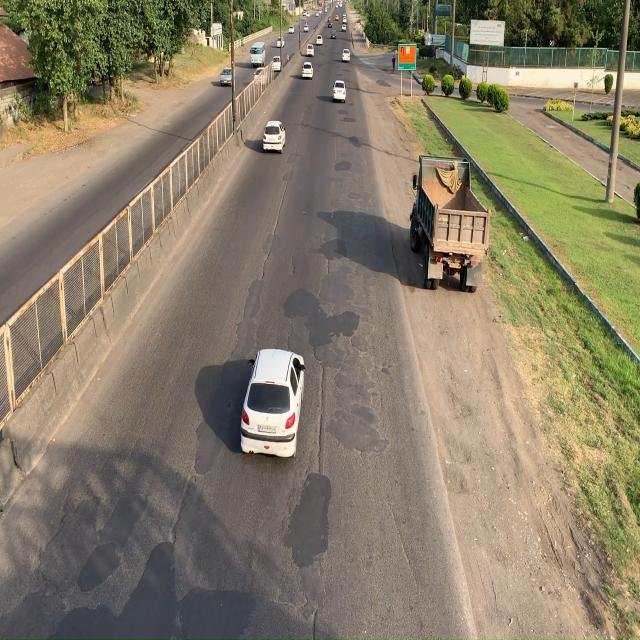Truck: (411, 150, 494, 290)
cars: (239, 346, 307, 456), (262, 119, 285, 153)
